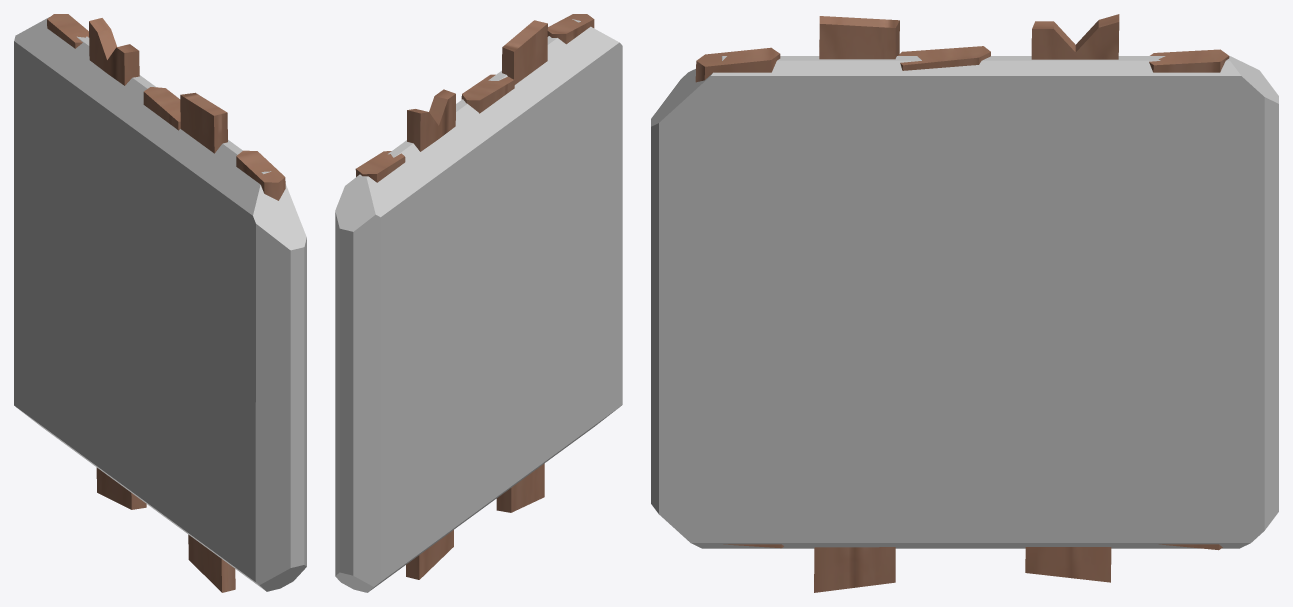
The model's file is SM_wooden_boards_04.fbx.
The picture shows the model from 3 angles, left to right: view 1: azimuth 30°, elevation 25°; view 2: azimuth 150°, elevation 25°; view 3: azimuth 270°, elevation 25°; orthographic projection. The views are drawn at different scales.
Visible parts, largest first — view 1: SM_wooden_boards_04_ConvexHulls, SM_wooden_boards_04; view 2: SM_wooden_boards_04_ConvexHulls, SM_wooden_boards_04; view 3: SM_wooden_boards_04_ConvexHulls, SM_wooden_boards_04.
Boxes of the visible parts, x1,y1,x2,y2 form: SM_wooden_boards_04_ConvexHulls: [14, 17, 306, 591]; SM_wooden_boards_04: [47, 14, 285, 592]; SM_wooden_boards_04_ConvexHulls: [335, 19, 622, 592]; SM_wooden_boards_04: [355, 14, 594, 579]; SM_wooden_boards_04_ConvexHulls: [651, 56, 1278, 548]; SM_wooden_boards_04: [695, 14, 1229, 592].
Size of the model in its own units: 17.12 by 188 by 188.
